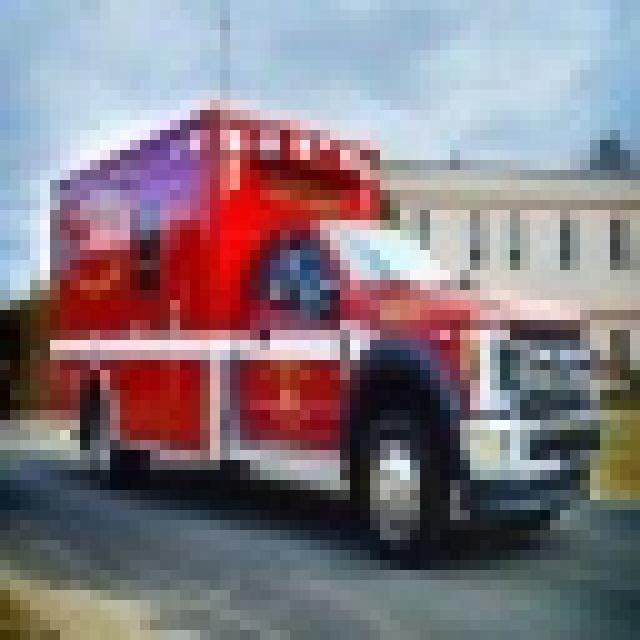Ambulance: (40, 100, 600, 560)
